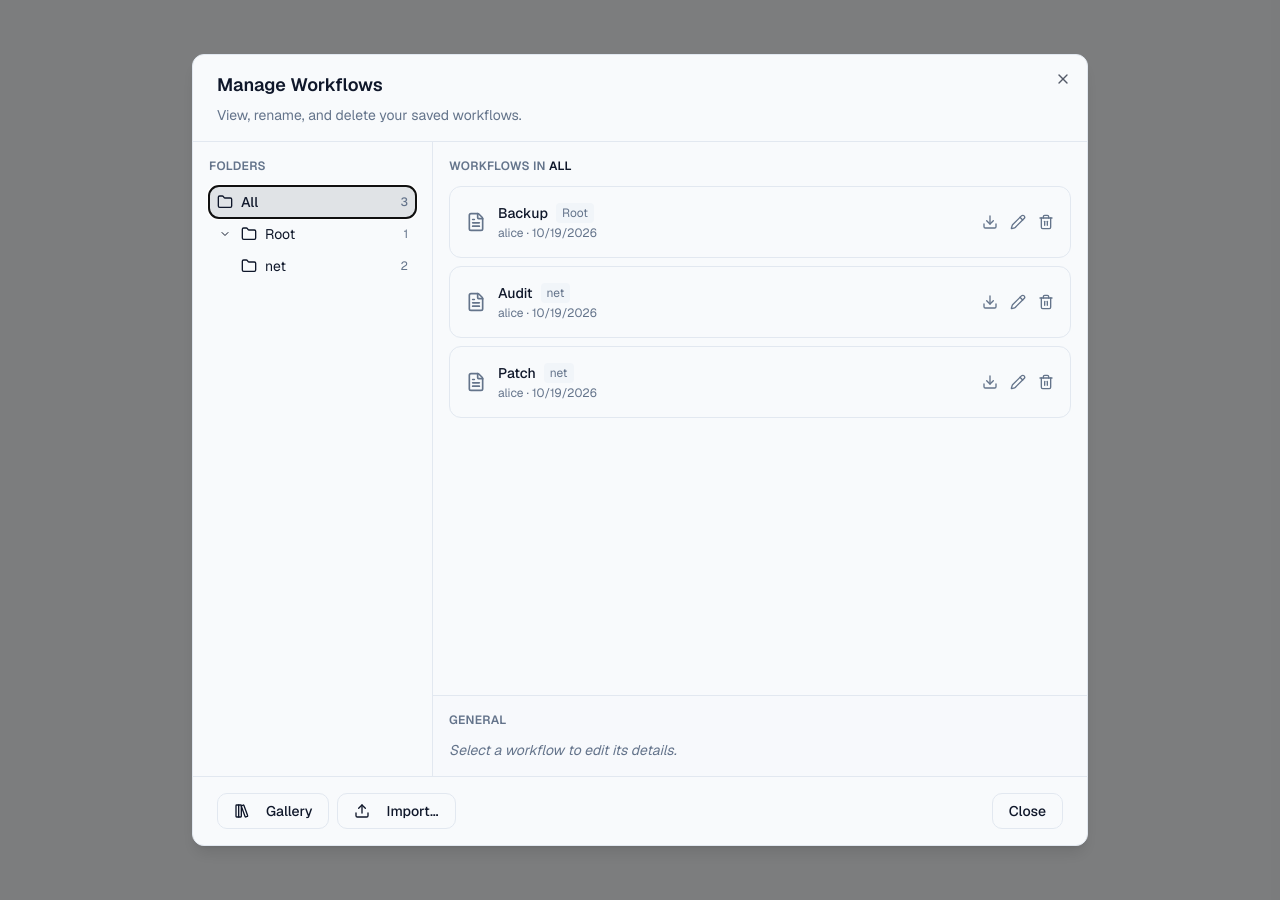
Scenario: WorkflowManageDialog edit › does not submit an empty name
The width and height of the screenshot is (1280, 900).
Click the button named "Edit workflow" in the row of "Audit". click: (1018, 302)
box: [1010,294,1026,310]
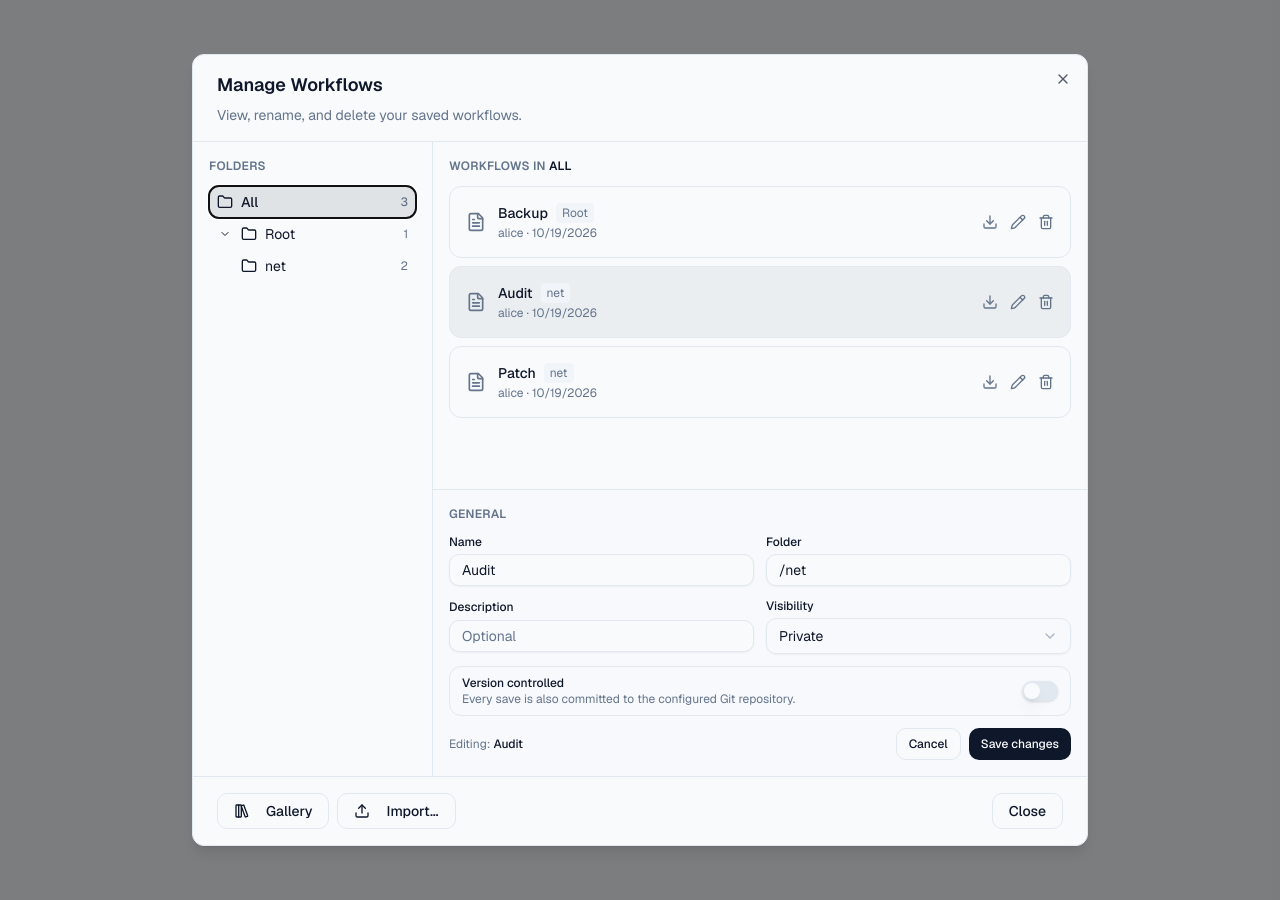
Clear the field labelled "Name". click: (602, 570)
box: [449,554,754,586]
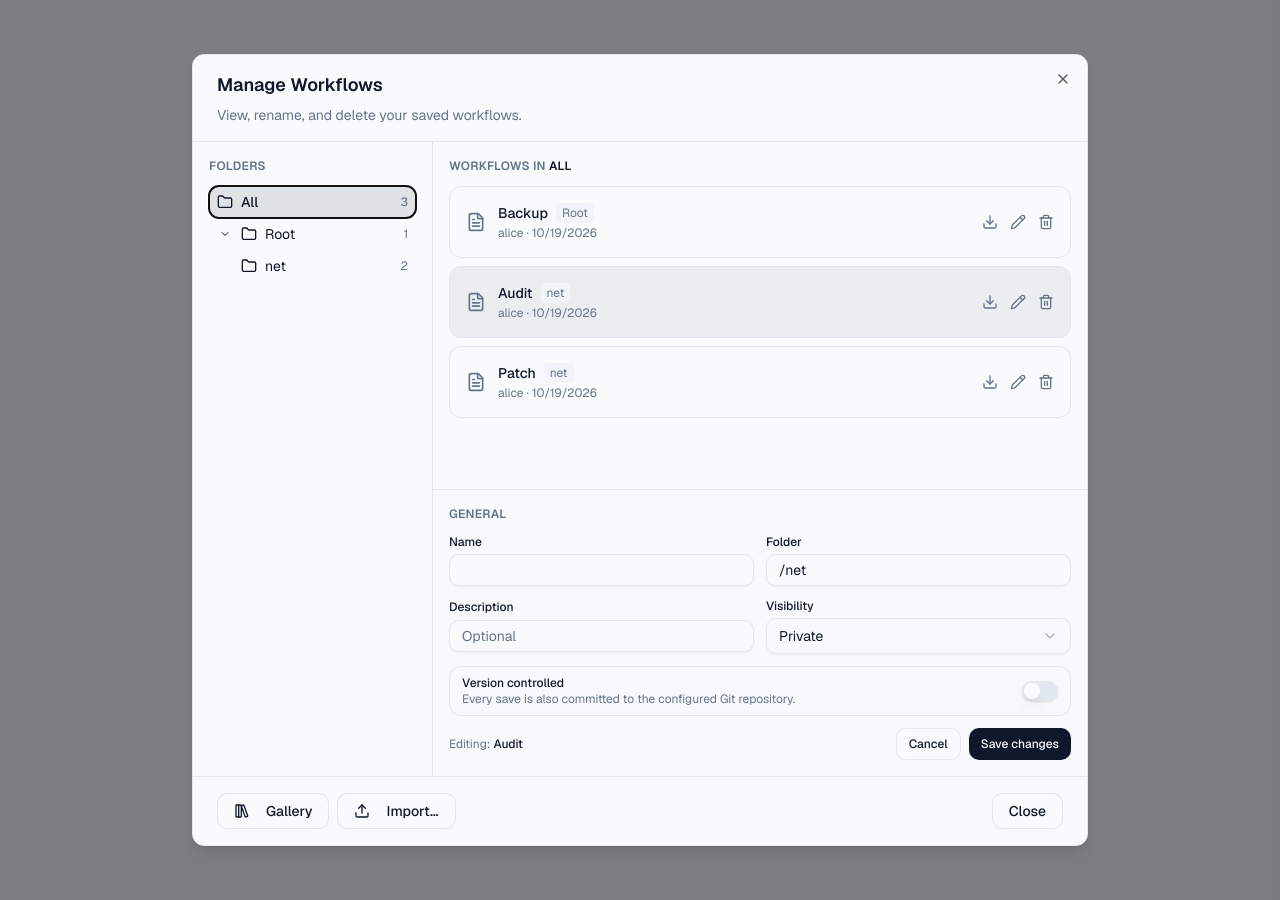
Click the button "Save changes". click: (1020, 744)
box: [969,728,1071,760]
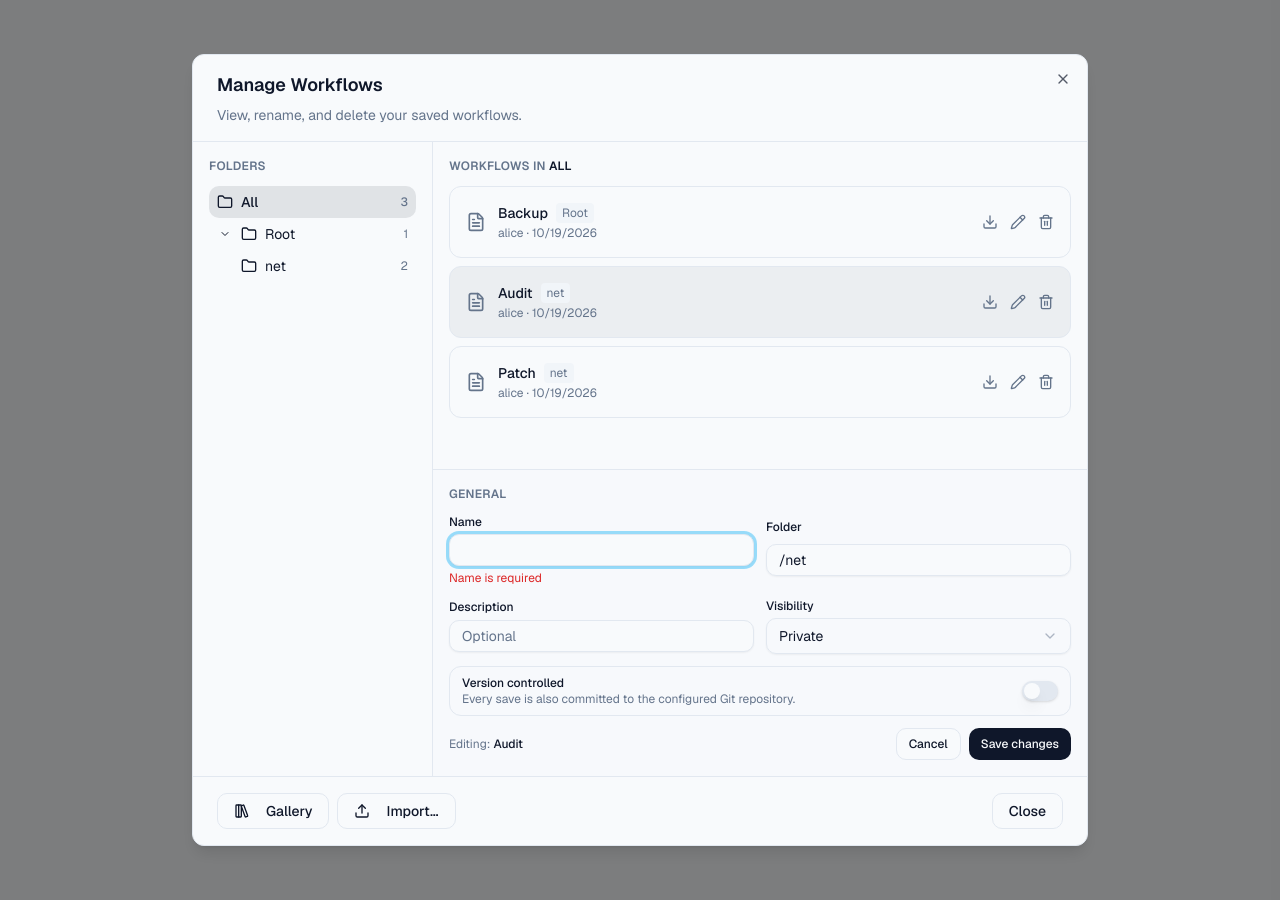
Result: the text "Name is required" is shown at [449,570,542,586]
